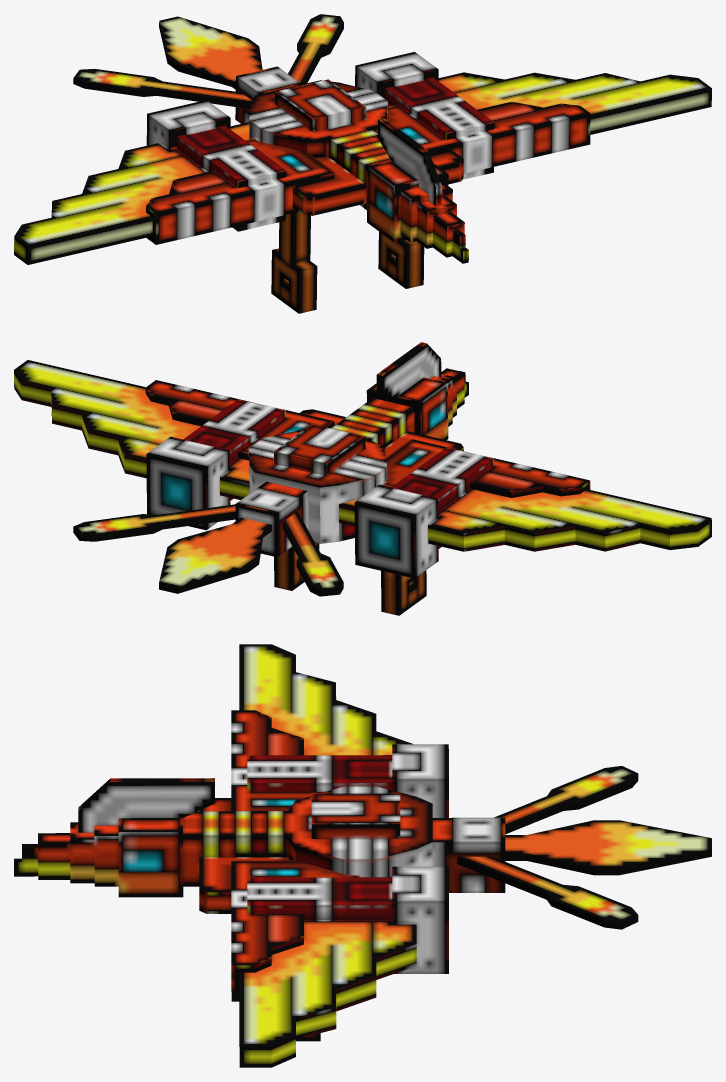
Rendered from glider_phoenix.fbx.
3 renders of one model, top to bottom at view 1: azimuth 30°, elevation 25°; view 2: azimuth 150°, elevation 25°; view 3: azimuth 270°, elevation 25°, orthographic. The views are drawn at different scales.
Visible parts, largest first — view 1: glider_phoenix; view 2: glider_phoenix; view 3: glider_phoenix.
Part boxes in pixels (<box>): glider_phoenix: <box>14,14,711,313</box>; glider_phoenix: <box>14,342,711,615</box>; glider_phoenix: <box>14,644,711,1067</box>.
Size of the model in its own units: 4.18 by 1.13 by 3.15.
